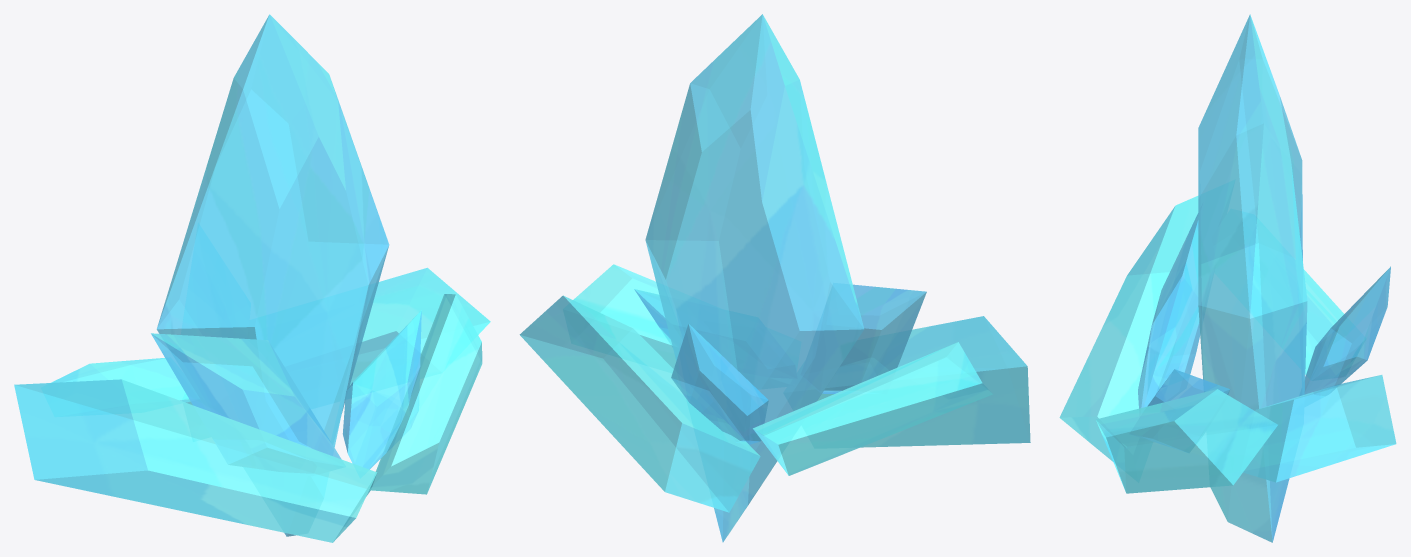
Rendered from cristal do meio.glb.
3 renders of one model, left to right at view 1: azimuth 30°, elevation 25°; view 2: azimuth 150°, elevation 25°; view 3: azimuth 270°, elevation 25°, orthographic. The views are drawn at different scales.
Parts seen in each view (by area): view 1: Crystal-col; view 2: Crystal-col; view 3: Crystal-col.
Boxes of the visible parts, bbox=[...] form: Crystal-col: bbox=[14, 14, 490, 542]; Crystal-col: bbox=[519, 14, 1030, 542]; Crystal-col: bbox=[1059, 14, 1396, 542].
Size of the model in its own units: 18.08 by 18.68 by 11.07.
1 material, 1 textured.
